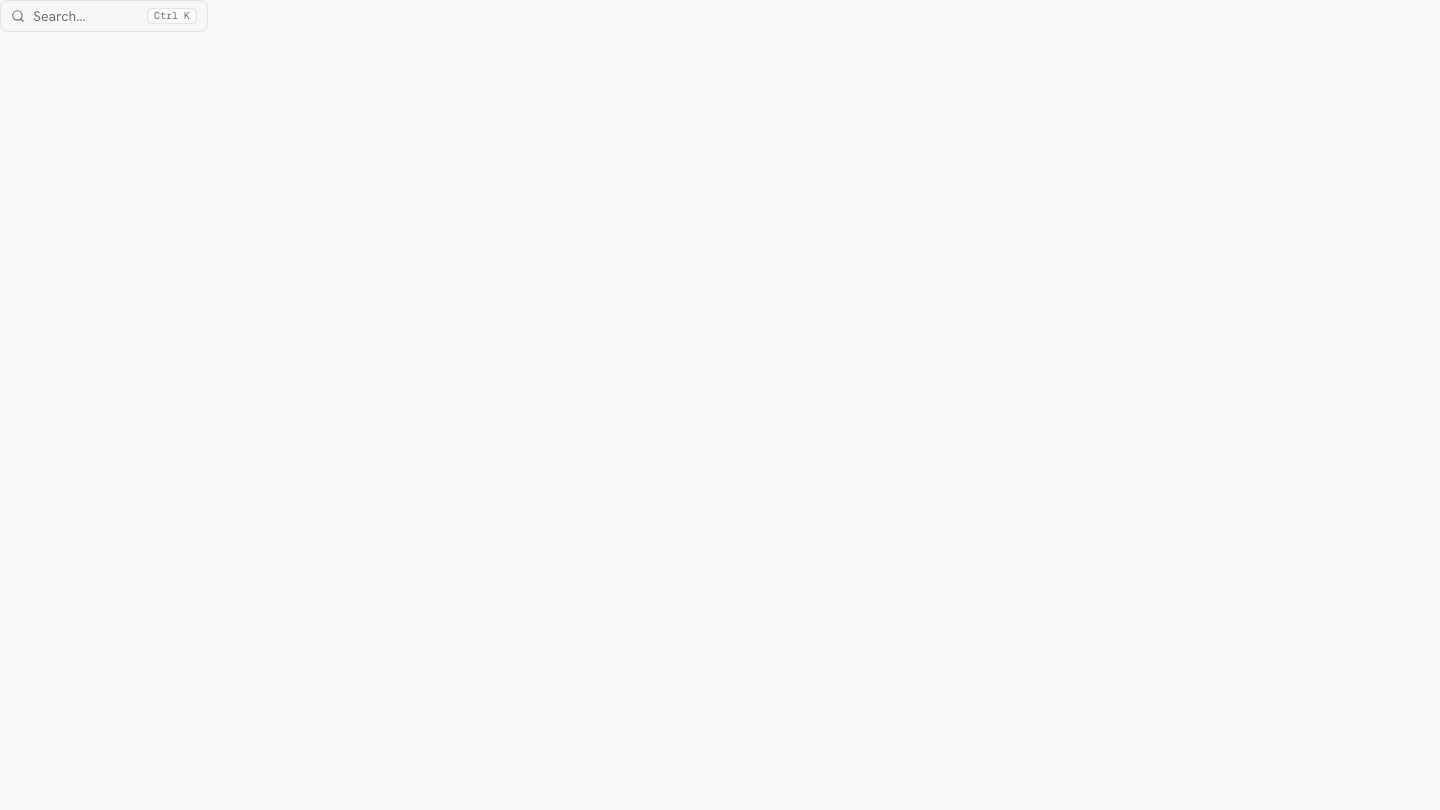
Test: CommandPalette › filters as you type and highlights what matched
Click the button with aria-label "Open command palette" at (104, 16), box [0,0,208,32]
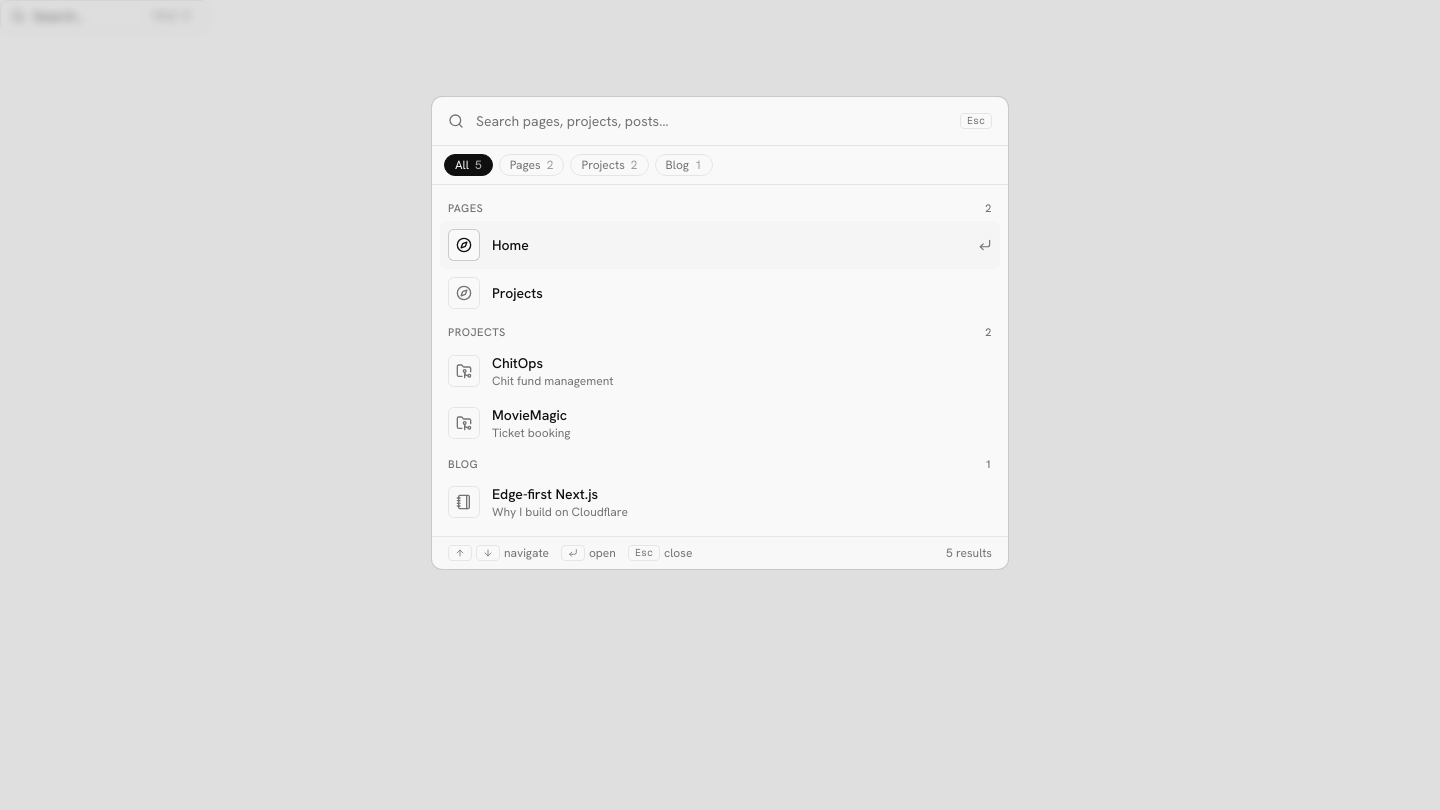
Type "chit" into the dropdown labelled "Search" at (712, 121), box [476,97,948,145]
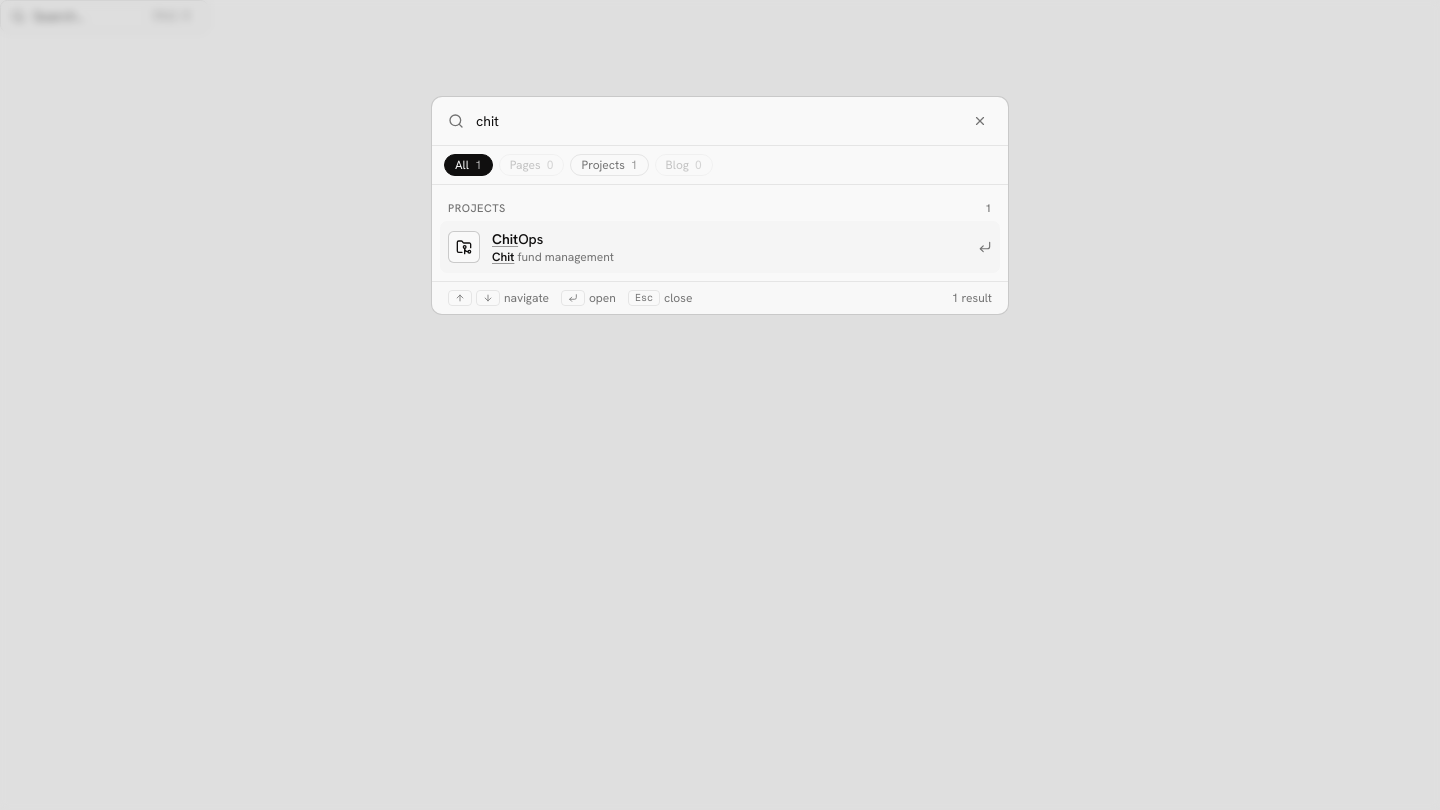
expect the number of options is 1: met, box [440,221,1000,273]
expect the text "Chit" is shown 2 times: met, box [492,230,518,248]; [492,249,514,265]
expect the text "1 result" is shown: met, box [952,290,992,306]
